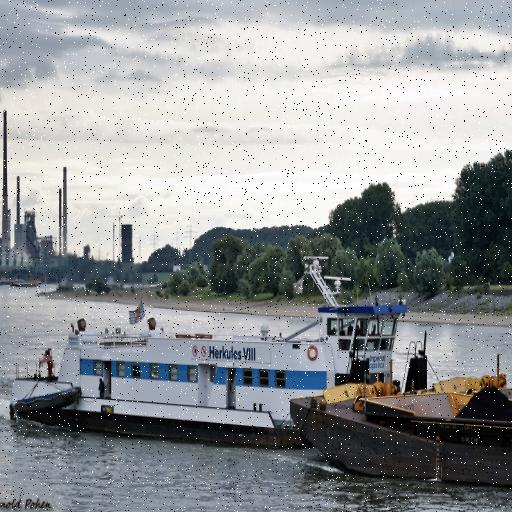tugboat: (7, 296, 436, 457)
